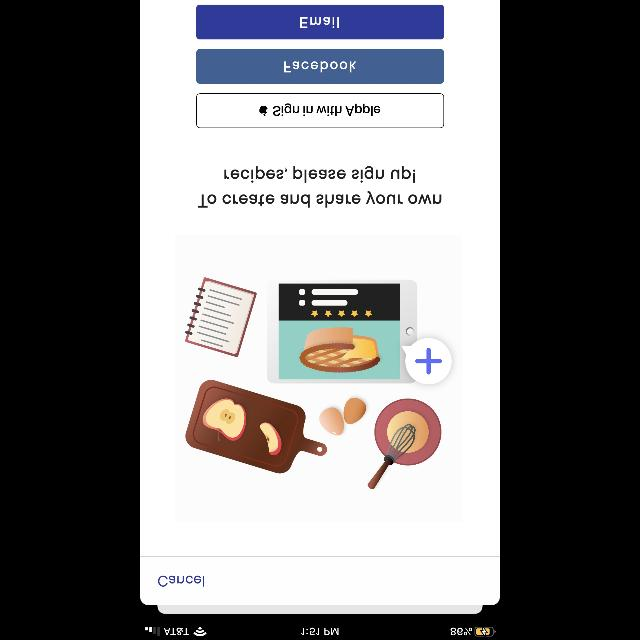image: (185, 277, 451, 488)
text: (198, 166, 442, 208), (158, 576, 204, 586)
textbutton: (196, 5, 444, 40), (196, 50, 444, 84), (196, 94, 444, 128)
uppertaskbar: (140, 626, 500, 640)
